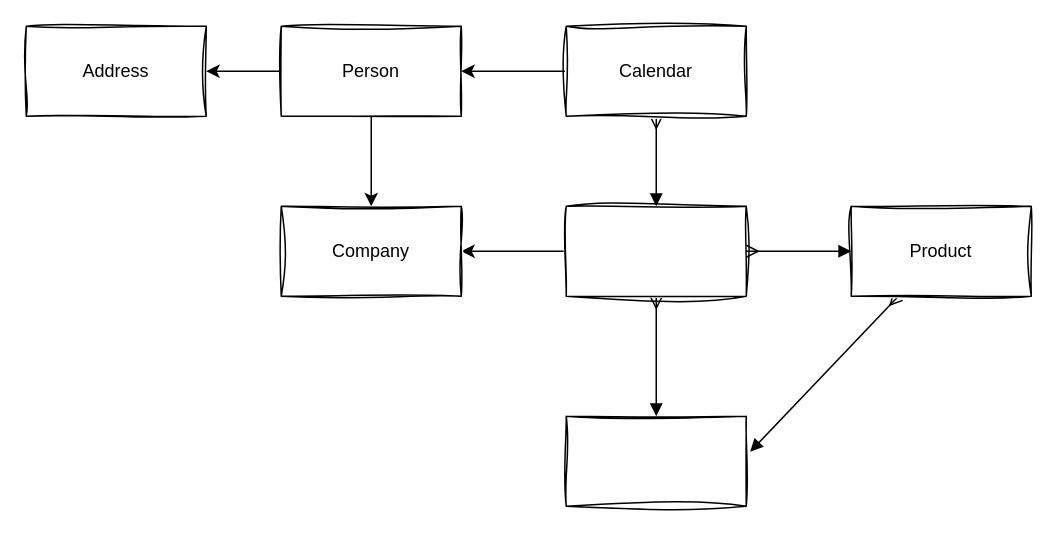
Some shapes in this 1058 by 533 pixel diagram are drawn without their labels. The shapes that lost their labels are listed below. From the top down, each one's centre as x and y in pixels, then its label:
At point 655,250: "Service".
At point 655,460: "Commentary".
